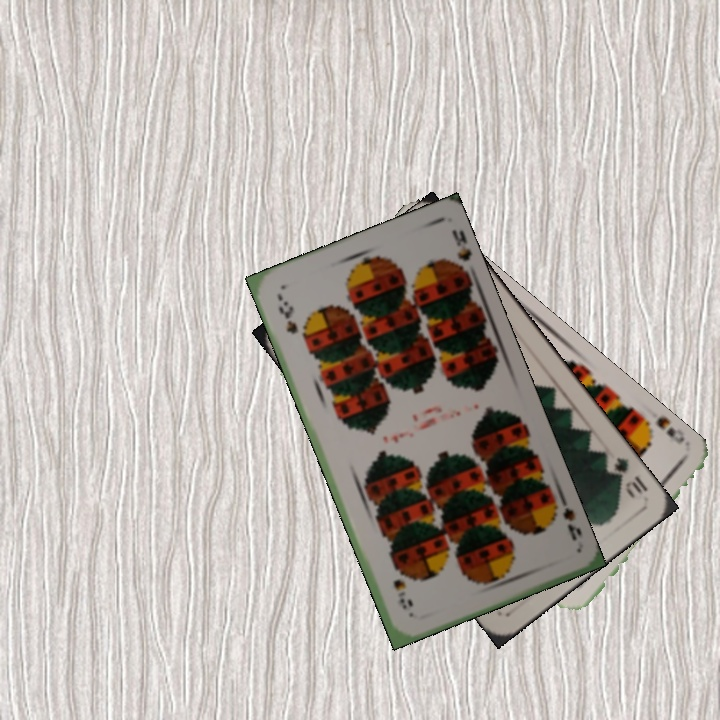G10: (607, 453, 651, 501)
S9: (544, 490, 585, 544), (636, 412, 688, 447), (274, 297, 301, 337)
